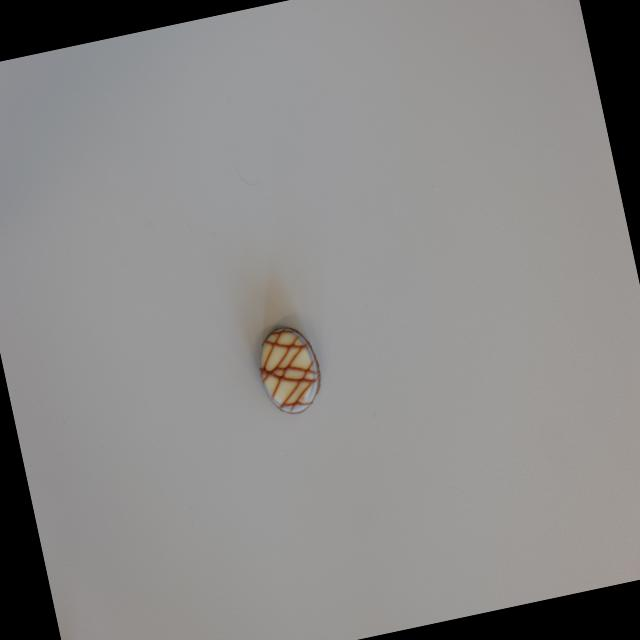Creme_brulee: (250, 319, 327, 418)
